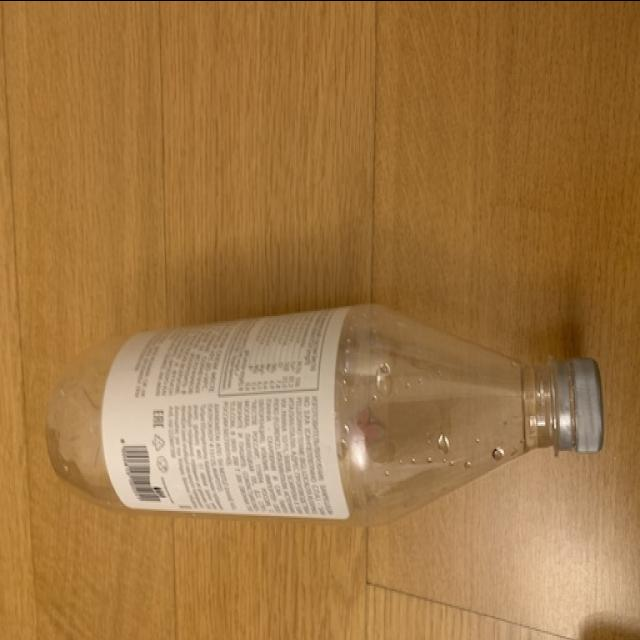litter: (46, 298, 605, 514)
